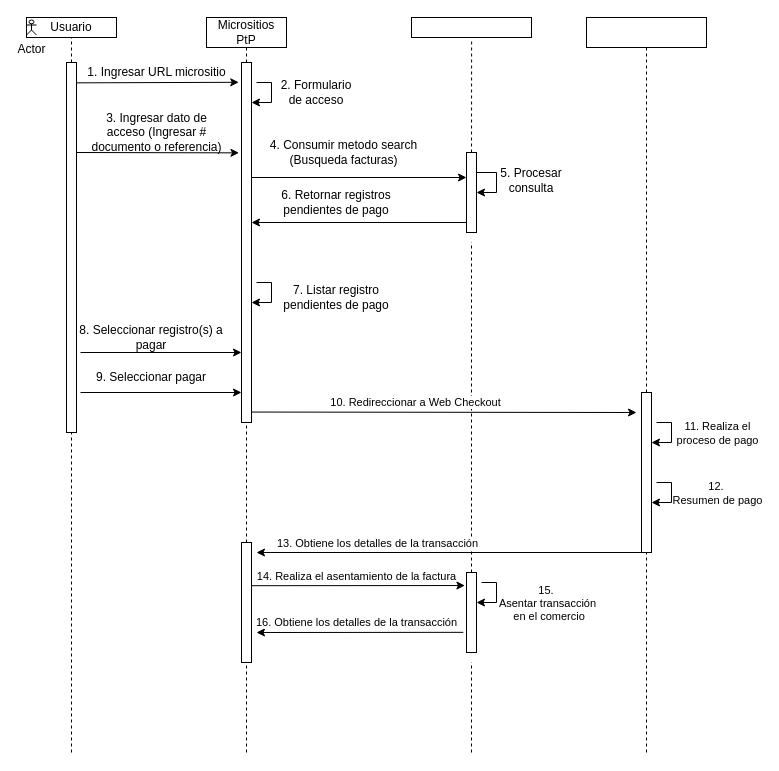
The diagram is 779 pixels wide and 771 high, and some of its shapes have lost their labels. The shapes that lost their labels are listed below. From the top down, each one's box as (x1, y1, x2, y2) in pixels, then its label:
(410, 16, 532, 38): Servicio del Comercio
(586, 16, 706, 48): Webcheckout Placetopay
